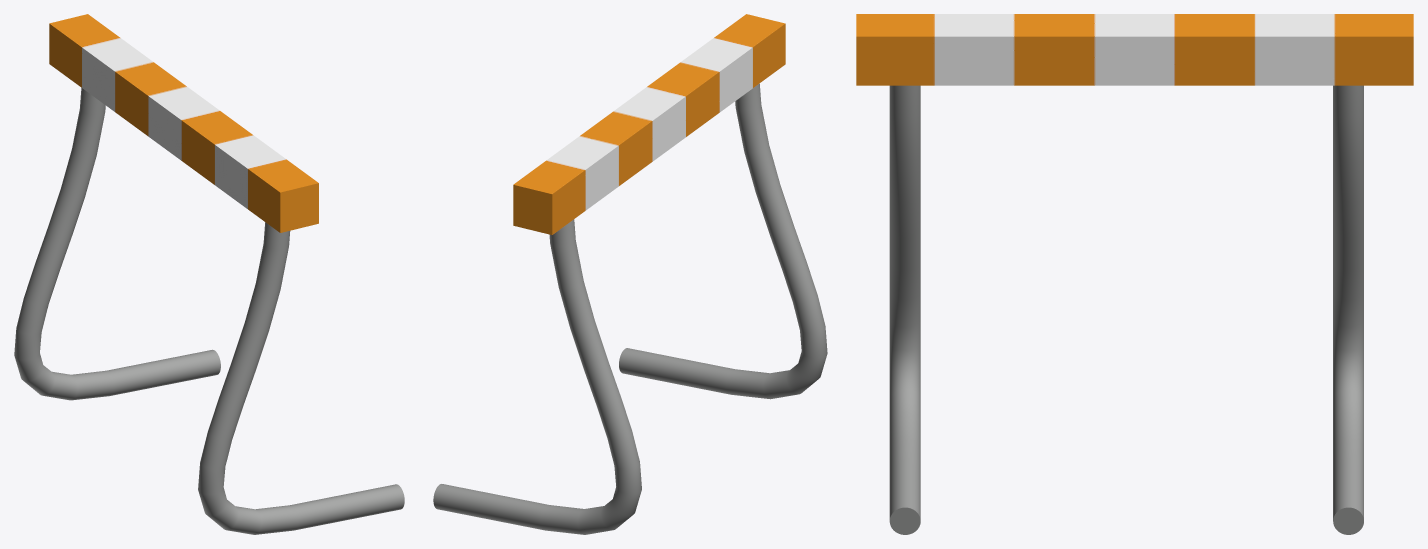
Rendered from JumpThing.fbx.
3 renders of one model, left to right at view 1: azimuth 30°, elevation 25°; view 2: azimuth 150°, elevation 25°; view 3: azimuth 270°, elevation 25°, orthographic. The views are drawn at different scales.
Visible parts, largest first — view 1: Cube.286, BezierCurve, BezierCurve.001; view 2: Cube.286, BezierCurve.001, BezierCurve; view 3: Cube.286, BezierCurve, BezierCurve.001.
Part boxes in pixels (x1,y1,x2,y2): Cube.286: (49,14,318,232); BezierCurve: (198,222,404,534); BezierCurve.001: (14,88,220,400); Cube.286: (513,14,785,234); BezierCurve.001: (433,219,641,534); BezierCurve: (619,83,827,399); Cube.286: (856,14,1413,85); BezierCurve: (889,85,920,534); BezierCurve.001: (1333,85,1363,534).
Size of the model in its own units: 673 by 1179 by 1354.
